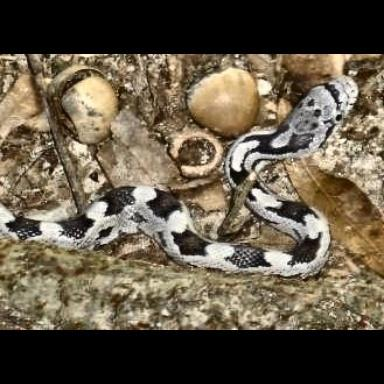snake: (0, 55, 358, 279)
